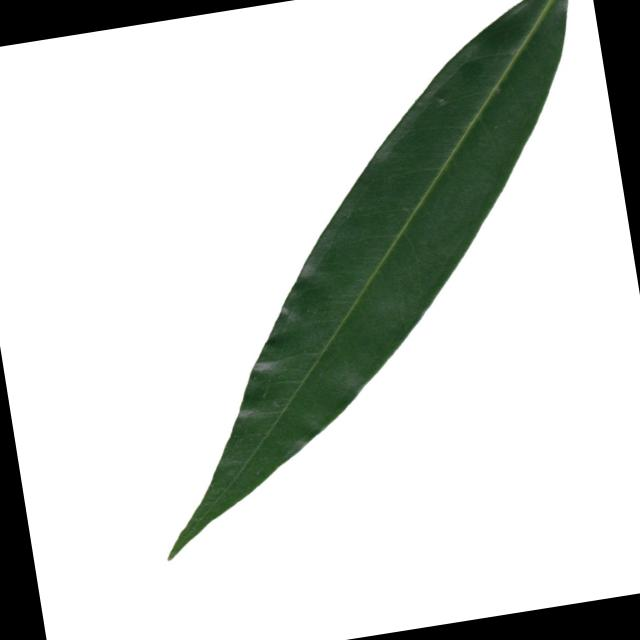Medicinal-Rose Apple: (85, 0, 640, 563)
